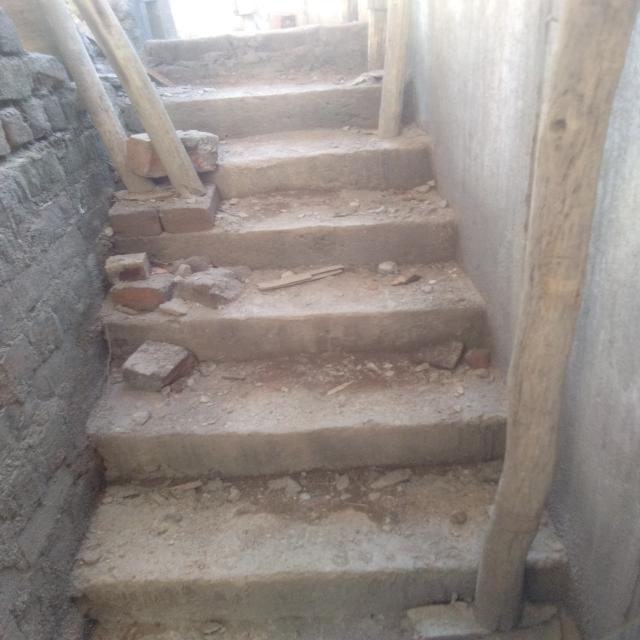Stairs: (47, 65, 614, 561)
